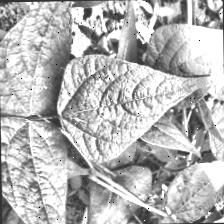ALS: (56, 48, 212, 162), (0, 115, 70, 224), (169, 155, 224, 223)
